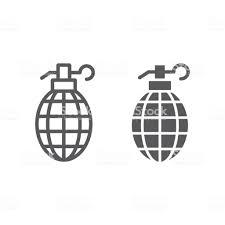e1: (35, 62, 96, 161), (132, 64, 190, 163)
